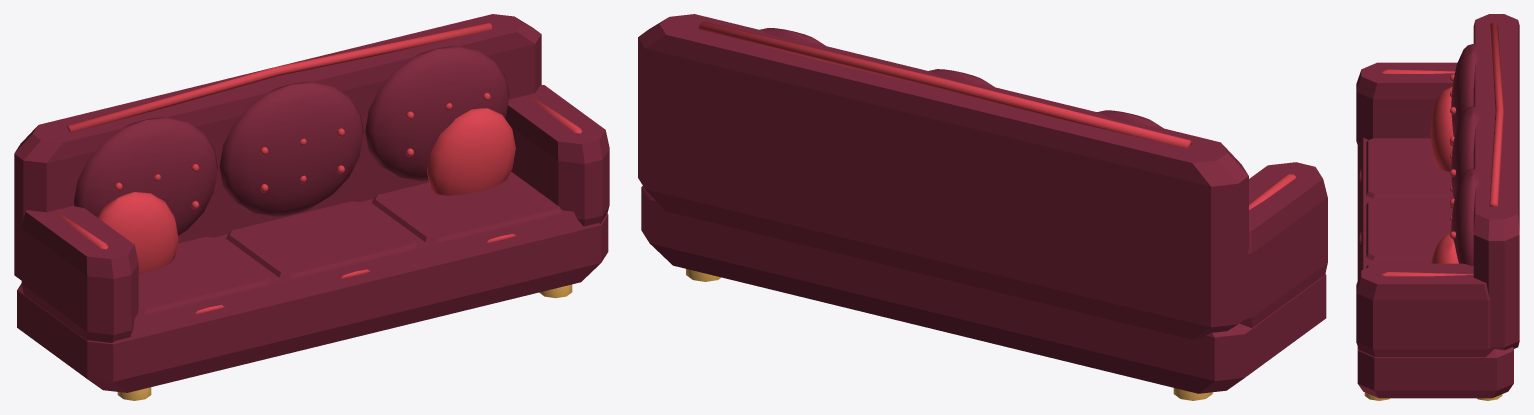
File: sofa.glb
The picture shows the model from 3 angles, left to right: view 1: azimuth 30°, elevation 25°; view 2: azimuth 150°, elevation 25°; view 3: azimuth 270°, elevation 25°; orthographic projection. The views are drawn at different scales.
Parts seen in each view (by area): view 1: sofa · Oxblood upholstery, sofa · Oxblood upholstery.001, sofa · Scarlet piping, sofa · Brushed brass; view 2: sofa · Oxblood upholstery, sofa · Scarlet piping, sofa · Oxblood upholstery.001; view 3: sofa · Oxblood upholstery, sofa · Oxblood upholstery.001, sofa · Scarlet piping, sofa · Brushed brass.
Boxes of the visible parts, <box> form: sofa · Oxblood upholstery: <box>14,14,609,392</box>; sofa · Oxblood upholstery.001: <box>73,46,509,235</box>; sofa · Scarlet piping: <box>53,23,582,314</box>; sofa · Brushed brass: <box>117,284,572,400</box>; sofa · Oxblood upholstery: <box>638,14,1327,393</box>; sofa · Scarlet piping: <box>698,21,1295,209</box>; sofa · Oxblood upholstery.001: <box>759,28,1163,128</box>; sofa · Oxblood upholstery: <box>1356,14,1519,398</box>; sofa · Oxblood upholstery.001: <box>1451,44,1479,265</box>; sofa · Scarlet piping: <box>1359,22,1503,276</box>; sofa · Brushed brass: <box>1364,392,1502,400</box>.
Size of the model in its own units: 3.55 by 1.46 by 1.1.
